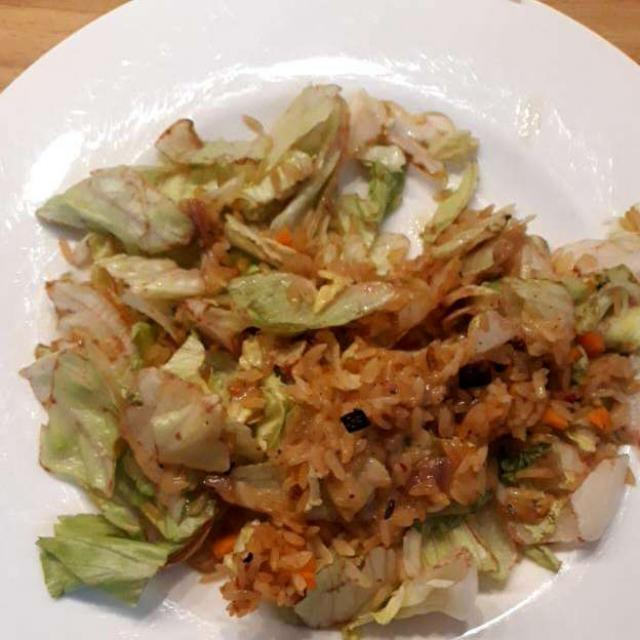rice: (154, 230, 596, 619)
salad: (42, 101, 625, 615)
